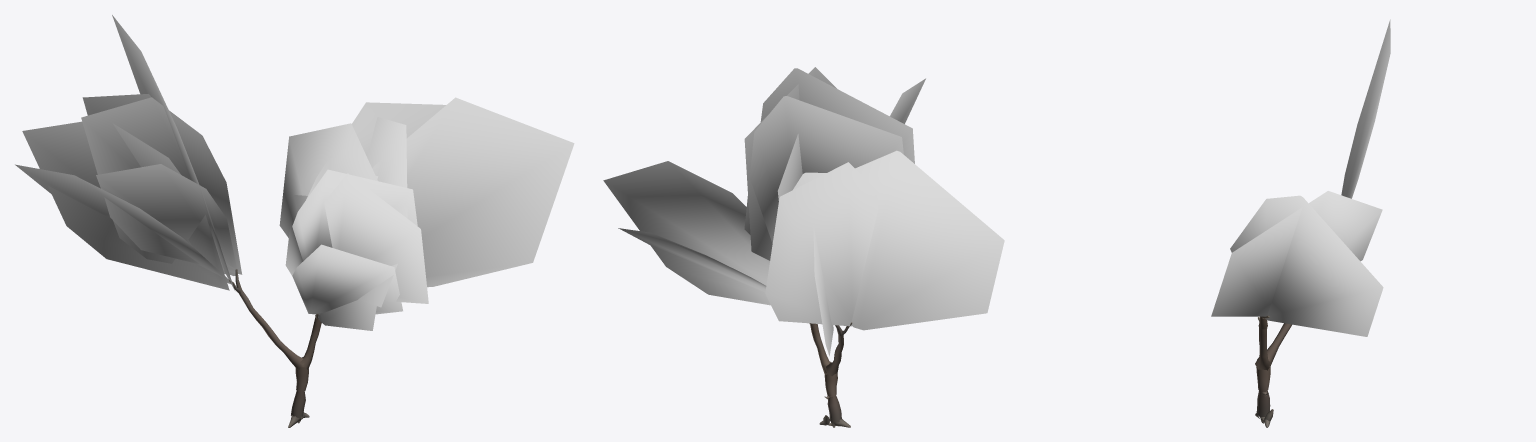
The model's file is shoot_tree_3.glb.
3 views of the same model, side by side, from view 1: azimuth 30°, elevation 25°; view 2: azimuth 150°, elevation 25°; view 3: azimuth 270°, elevation 25° (orthographic). The views are drawn at different scales.
Parts seen in each view (by area): view 1: shoot_tree_3; view 2: shoot_tree_3; view 3: shoot_tree_3.
Boxes of the visible parts, x1,y1,x2,y2 form: shoot_tree_3: [15, 15, 574, 427]; shoot_tree_3: [603, 67, 1004, 427]; shoot_tree_3: [1211, 19, 1390, 427].
Bounding box in the file's own units: 8 × 6.43 × 7.81.
